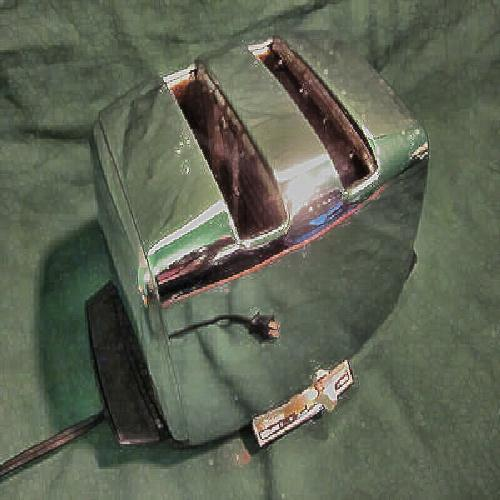toaster: (98, 22, 427, 435)
